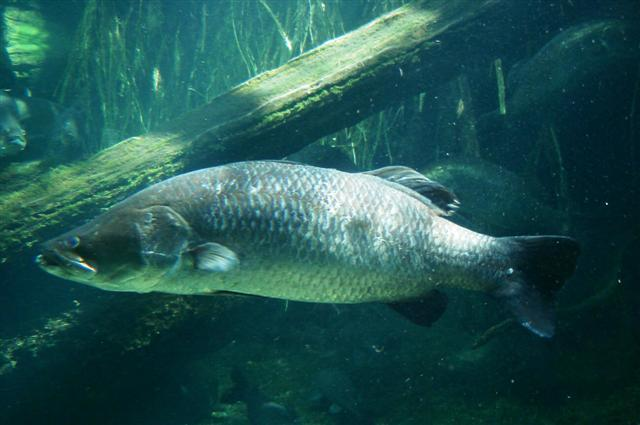Mulut: (18, 220, 98, 308)
Sirip Anal: (374, 280, 458, 336)
Sirip Dada: (160, 230, 260, 286)
Sirip Ekor: (473, 222, 599, 364)
Sirip Perut: (202, 283, 284, 311)
Sirip Punggung: (345, 155, 477, 231)
